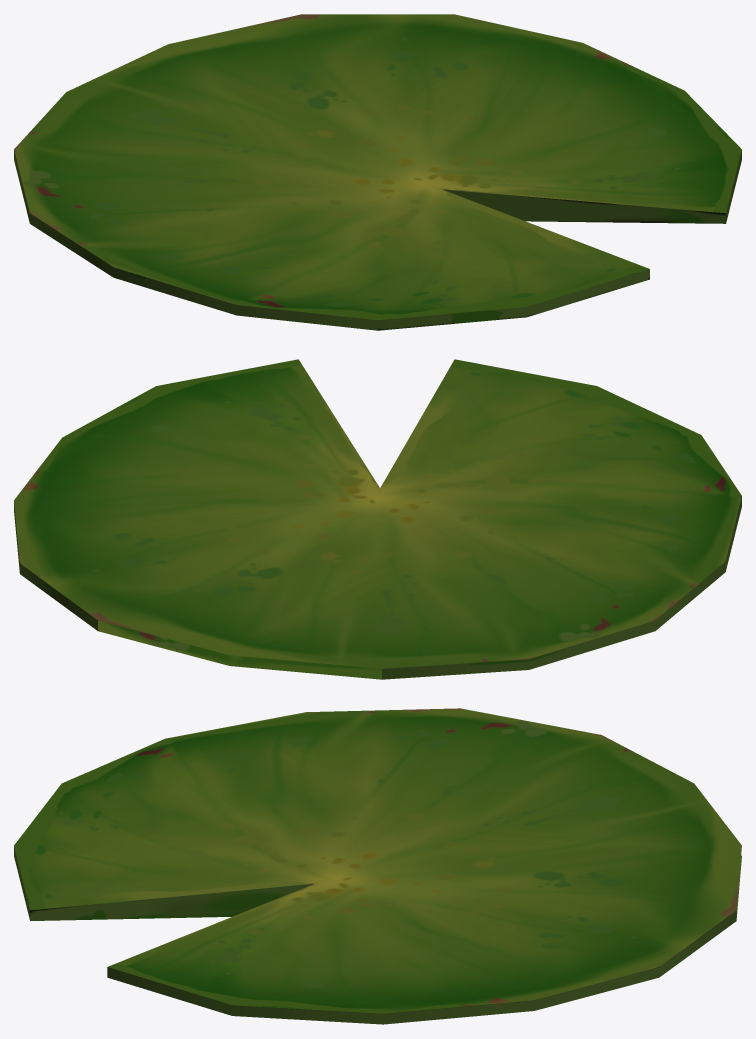
File: Lilypad.fbx
3 renders of one model, top to bottom at view 1: azimuth 30°, elevation 25°; view 2: azimuth 150°, elevation 25°; view 3: azimuth 270°, elevation 25°, orthographic. The views are drawn at different scales.
Visible parts, largest first — view 1: Grote_Lily_lambert2_0; view 2: Grote_Lily_lambert2_0; view 3: Grote_Lily_lambert2_0.
Part boxes in pixels (left/top/right/bottom): Grote_Lily_lambert2_0: left=14, top=14, right=741, bottom=330; Grote_Lily_lambert2_0: left=14, top=359, right=741, bottom=679; Grote_Lily_lambert2_0: left=14, top=708, right=741, bottom=1024.
Size of the model in its own units: 83.47 by 4.86 by 84.07.
1 material, 1 textured.
